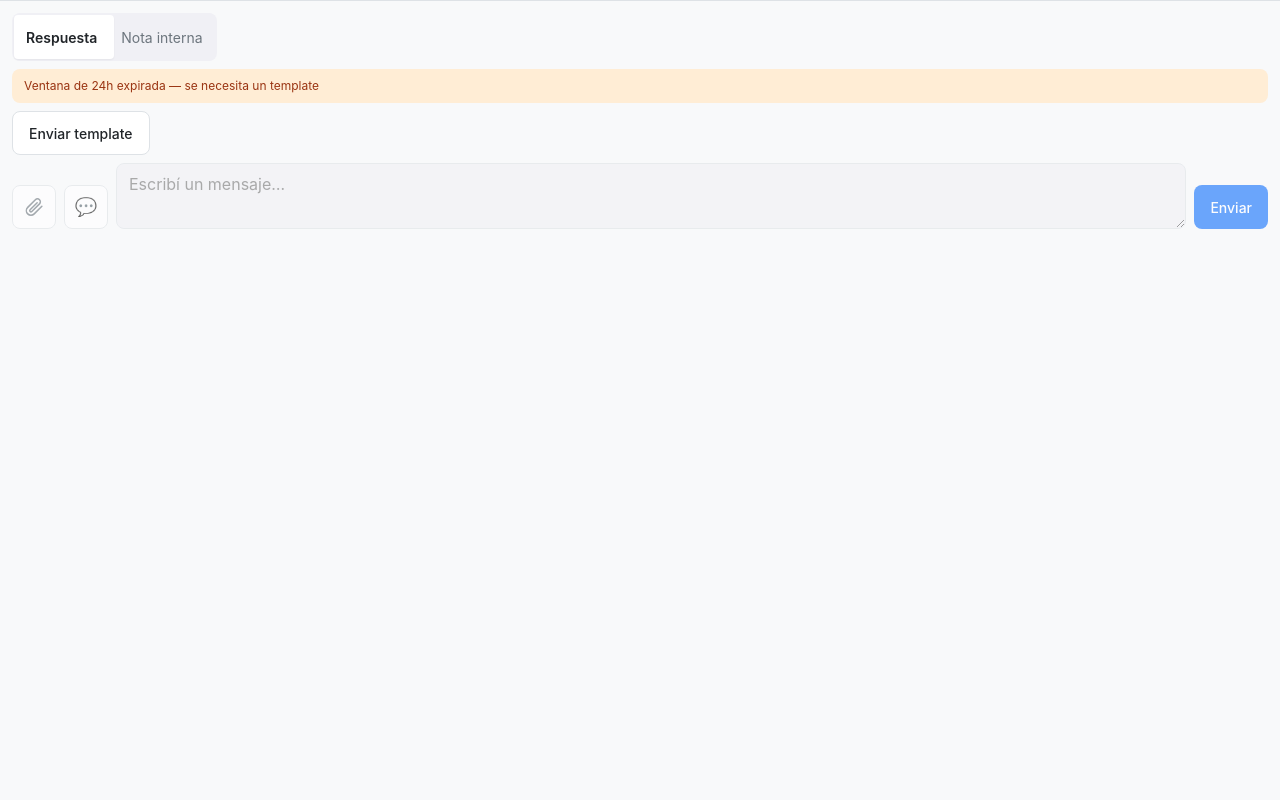
Test: CTA-2: click abre el panel; Esc/Cancelar lo cierran › click en "Enviar template" abre TemplateSendPanel (role=dialog)
Click the button "Enviar template": coordinates (81, 133) [12, 111, 150, 155]
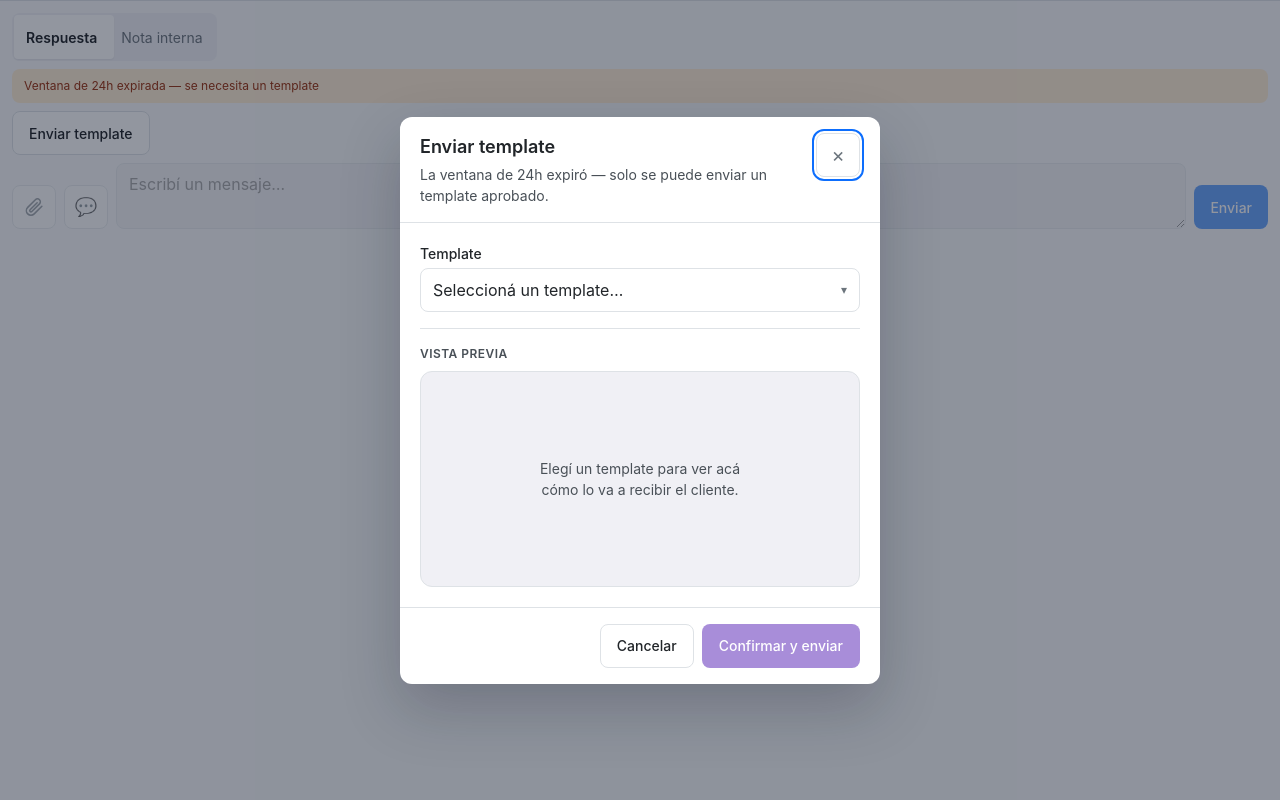
Expected: the dialog "Enviar template" is shown
